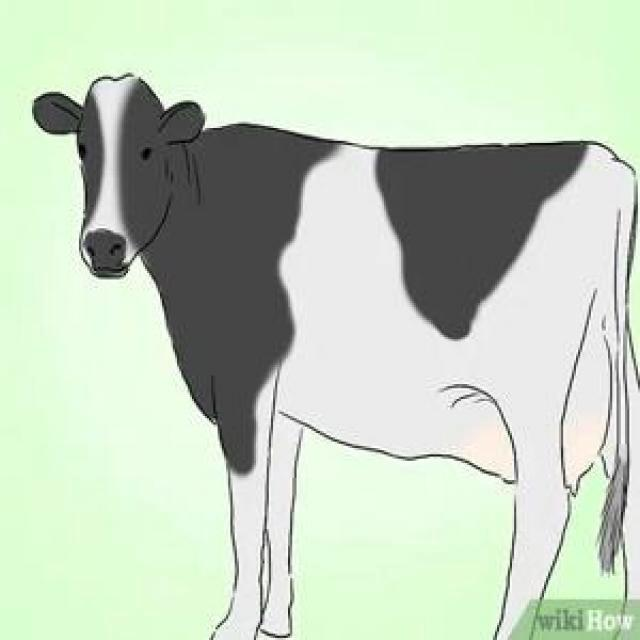cow: (34, 75, 640, 640)
